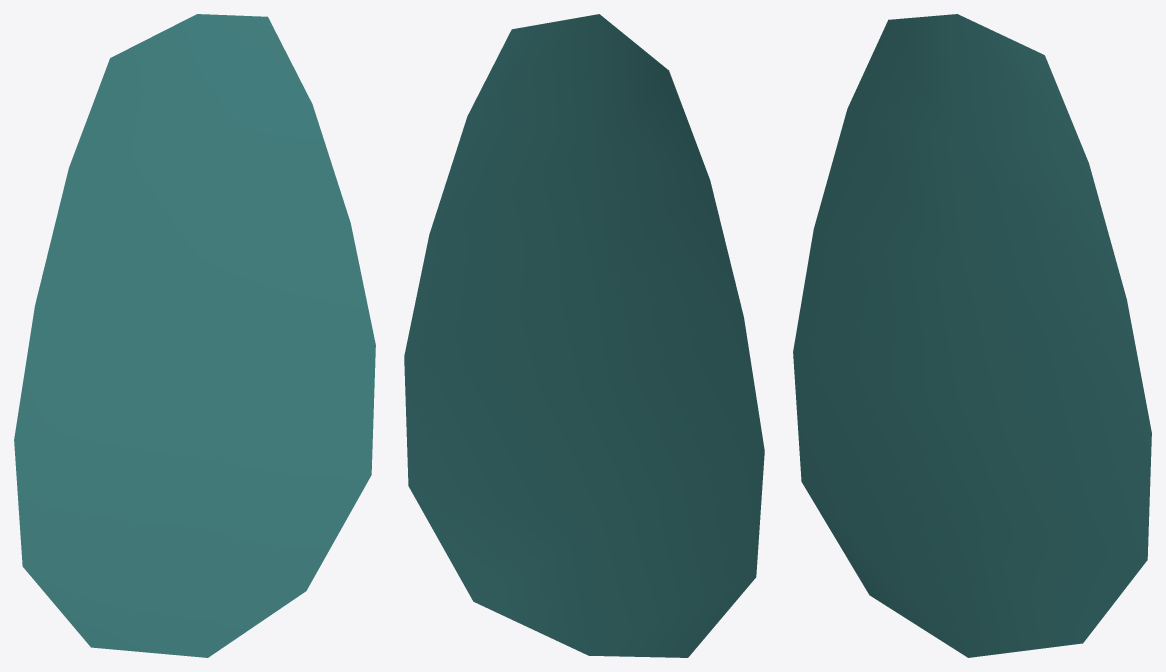
Rendered from budgie_feather_flight_tertiary_005.obj.
3 renders of one model, left to right at view 1: azimuth 30°, elevation 25°; view 2: azimuth 150°, elevation 25°; view 3: azimuth 330°, elevation 25°, orthographic.
Visible parts, largest first — view 1: feather_flight_tertiary_005; view 2: feather_flight_tertiary_005; view 3: feather_flight_tertiary_005.
Part boxes in pixels (box(x1,y1,x2,y2)): feather_flight_tertiary_005: box(14, 14, 375, 657); feather_flight_tertiary_005: box(404, 14, 764, 657); feather_flight_tertiary_005: box(793, 14, 1151, 657).
Size of the model in its own units: 0.00781 by 0.0133 by 0.000322.
